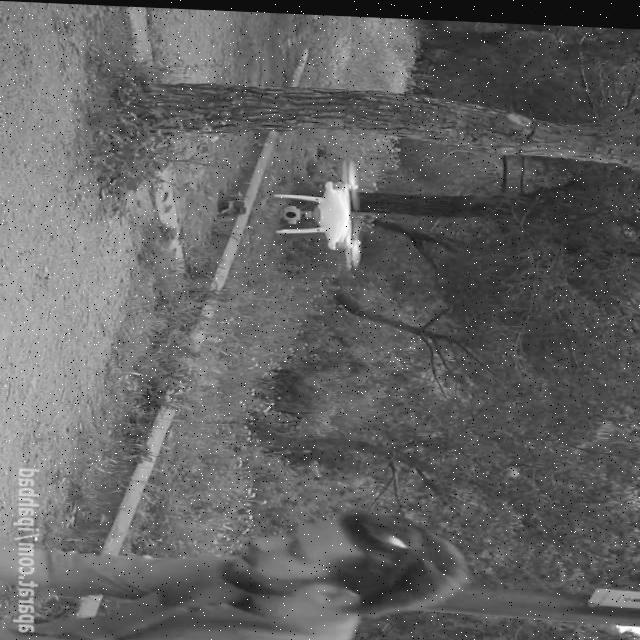drone: (272, 152, 364, 266)
